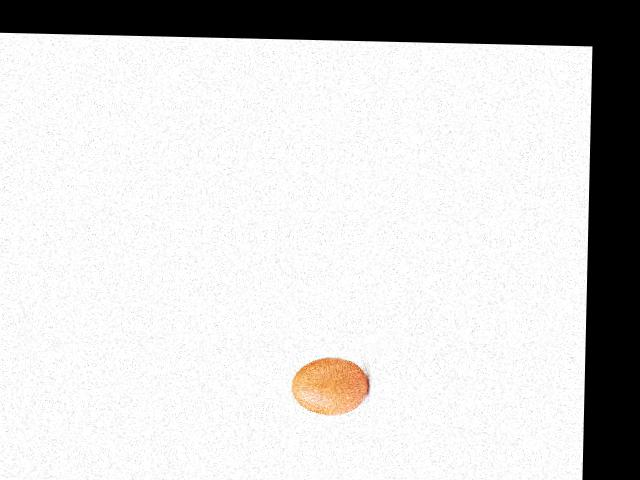egg: (291, 356, 368, 415)
